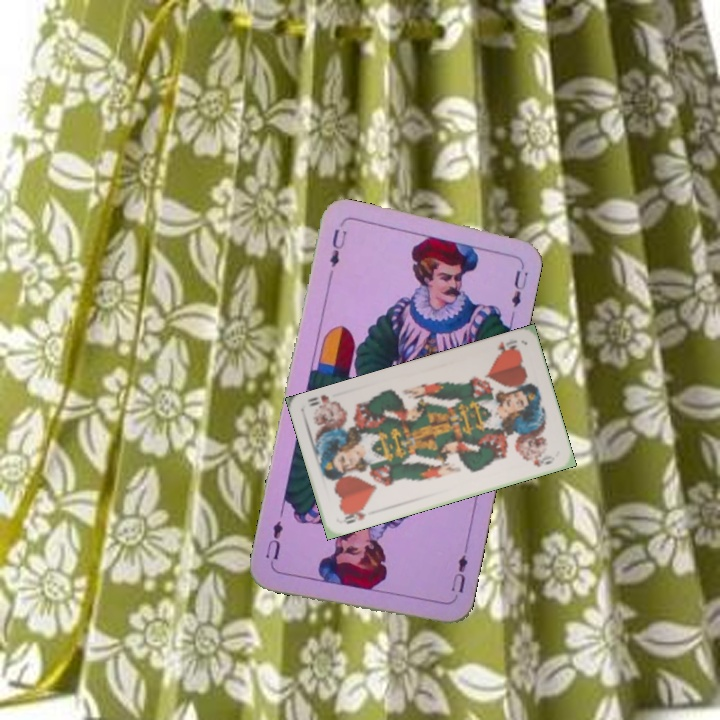EU: (325, 225, 350, 270), (446, 551, 471, 595)
HO: (340, 504, 369, 527), (493, 335, 521, 358)
